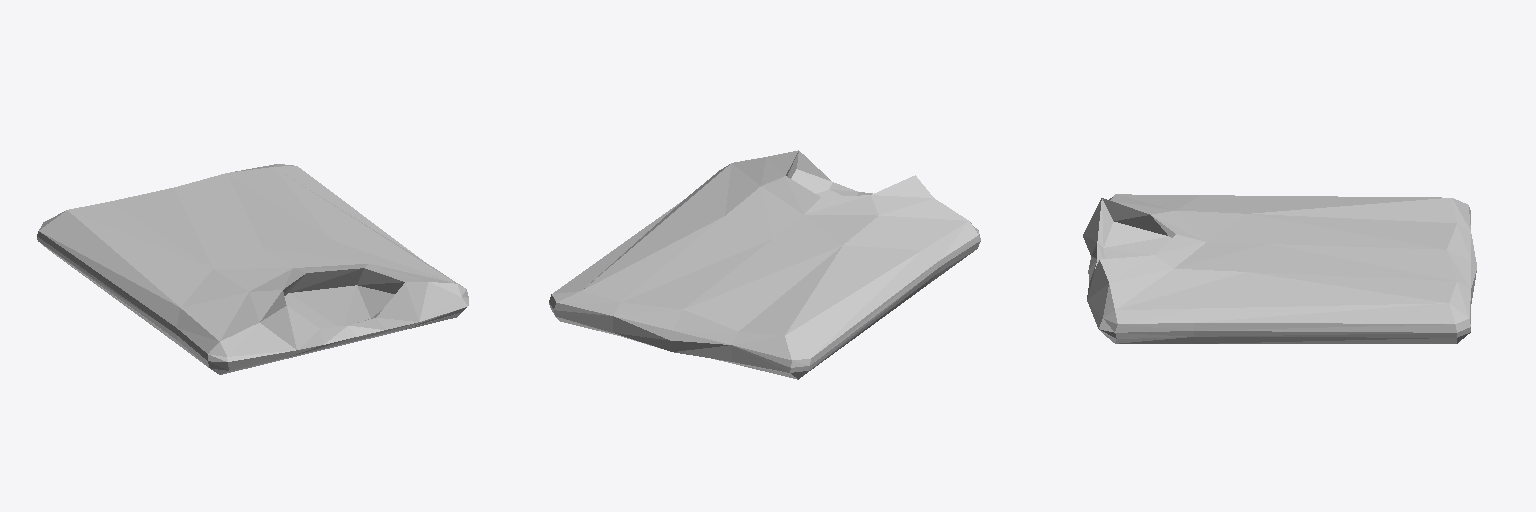
Rendered from fresdgrfe.obj.
3 views of the same model, side by side, from view 1: azimuth 30°, elevation 25°; view 2: azimuth 150°, elevation 25°; view 3: azimuth 270°, elevation 25° (orthographic).
Visible parts, largest first — view 1: group[number redacted]; view 2: group[number redacted]; view 3: group[number redacted].
Boxes of the visible parts, x1,y1,x2,y2 form: group[number redacted]: [37, 164, 468, 374]; group[number redacted]: [549, 150, 980, 379]; group[number redacted]: [1083, 194, 1476, 343].
Size of the model in its own units: 0.65 by 0.1424 by 0.8513.